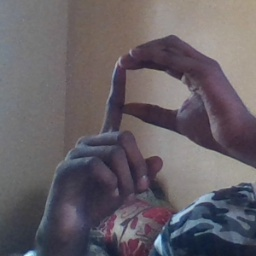P: (68, 33, 218, 208)
